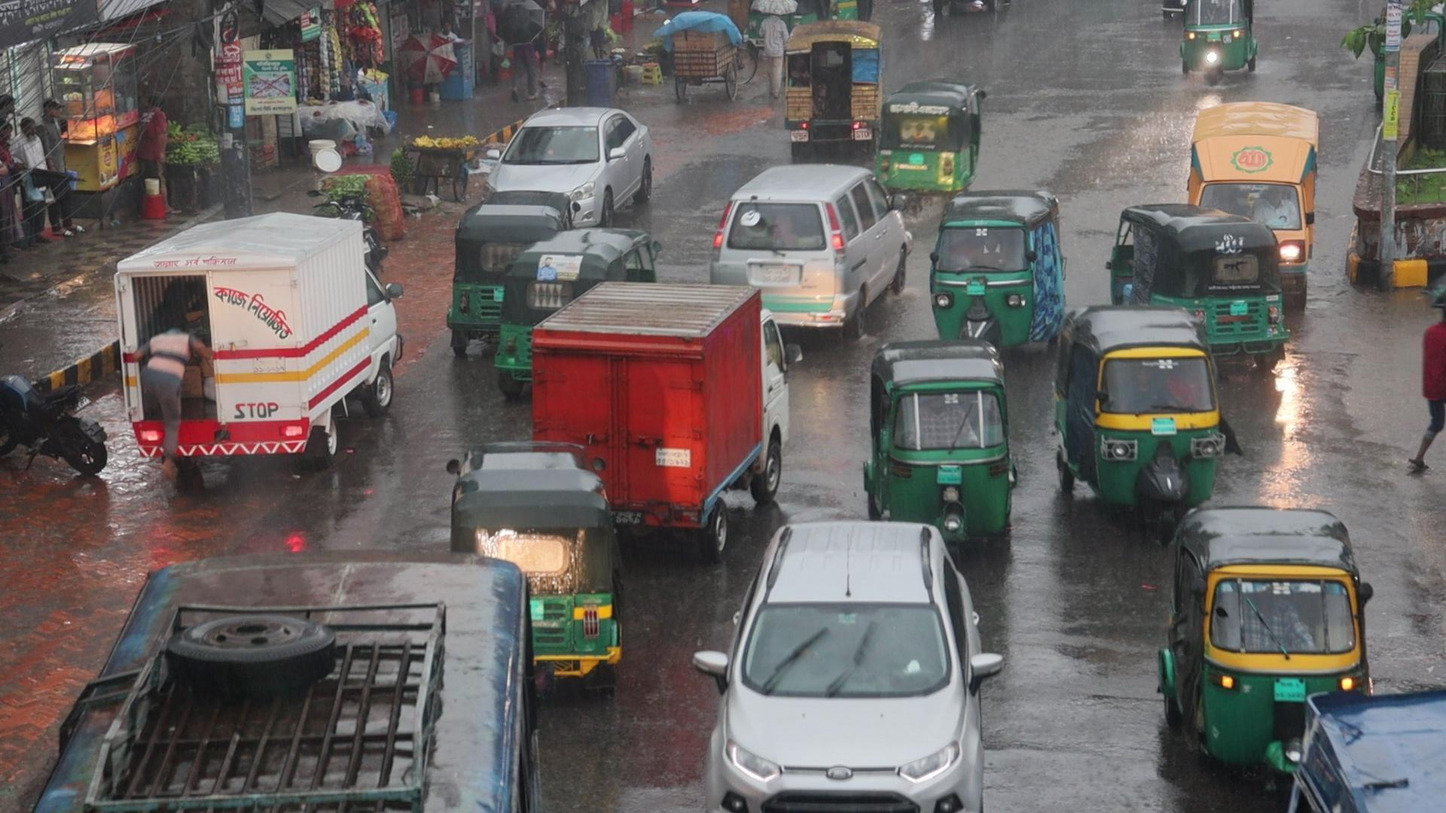Car: (692, 517, 1006, 813), (708, 164, 911, 289)
Truck: (528, 277, 802, 471), (1187, 102, 1322, 223), (783, 18, 880, 157)
